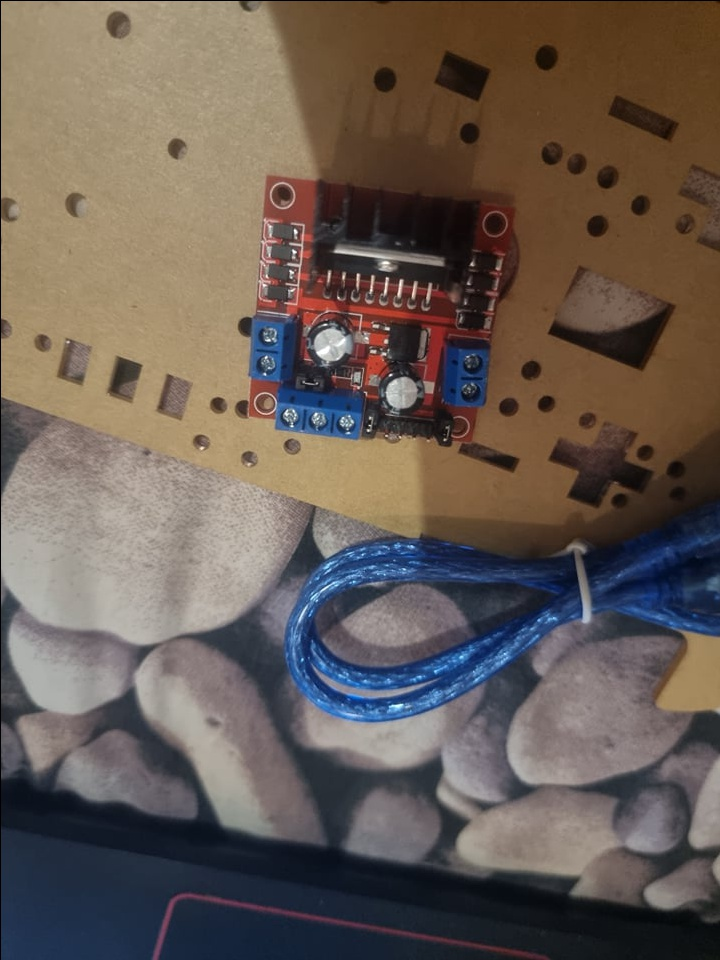MOTOR: (245, 173, 514, 450)
